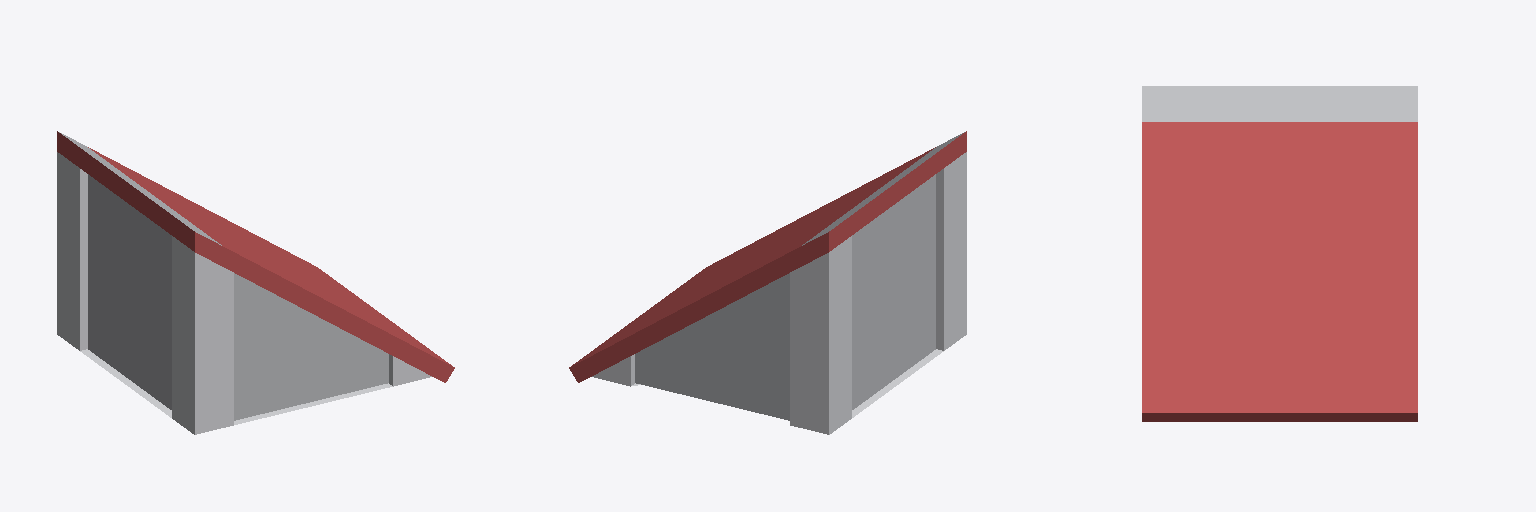
The model's file is Roof_Slant_Red_01.obj.
3 views of the same model, side by side, from view 1: azimuth 30°, elevation 25°; view 2: azimuth 150°, elevation 25°; view 3: azimuth 270°, elevation 25° (orthographic).
Visible parts, largest first — view 1: Mesh1 Roof_Slant_Red Model; view 2: Mesh1 Roof_Slant_Red Model; view 3: Mesh1 Roof_Slant_Red Model.
Part boxes in pixels (bbox=[...]): Mesh1 Roof_Slant_Red Model: bbox=[57, 131, 454, 434]; Mesh1 Roof_Slant_Red Model: bbox=[569, 131, 966, 434]; Mesh1 Roof_Slant_Red Model: bbox=[1142, 86, 1417, 421].
Size of the model in its own units: 3.28 by 2.57 by 3.